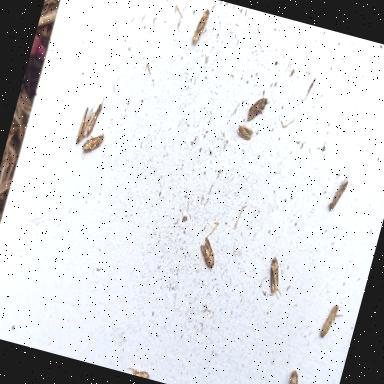pbw: (262, 252, 292, 300), (326, 163, 352, 214), (318, 301, 345, 342), (85, 92, 106, 140), (79, 127, 105, 163), (195, 235, 220, 271), (246, 92, 272, 126), (192, 5, 212, 46), (74, 106, 94, 146), (280, 367, 303, 384), (127, 364, 152, 379), (235, 124, 254, 142)
